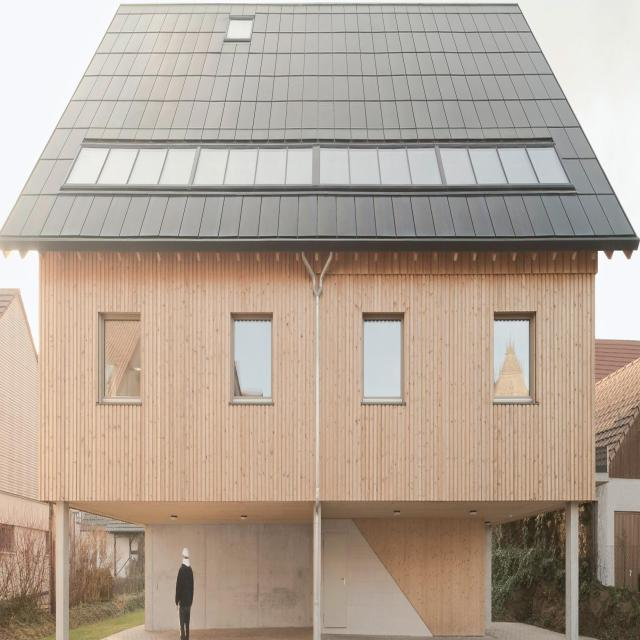door: (324, 530, 347, 632)
wall: (0, 4, 640, 639)
windows: (63, 142, 570, 182), (364, 313, 401, 399), (104, 320, 142, 403), (494, 319, 532, 402), (233, 319, 272, 396), (227, 16, 254, 38)
